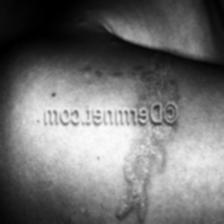Toxin: (115, 126, 174, 224), (128, 50, 182, 102)
